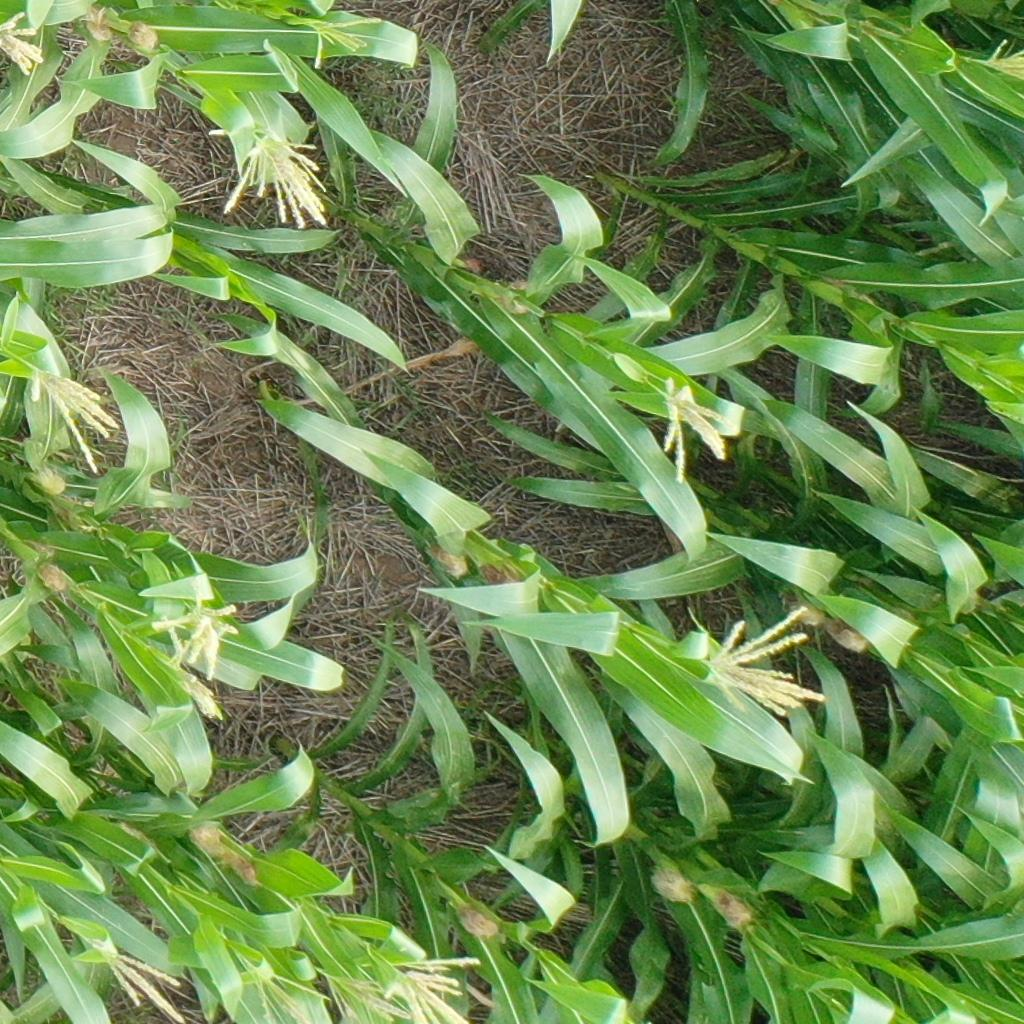Tassel: (700, 601, 831, 723), (210, 128, 336, 233), (29, 369, 121, 475), (148, 591, 242, 680), (654, 376, 731, 484), (93, 941, 188, 1024), (386, 955, 481, 1024), (239, 959, 328, 1024), (318, 971, 412, 1024), (310, 10, 388, 72), (1, 11, 48, 76), (172, 668, 225, 723), (982, 37, 1024, 80)
